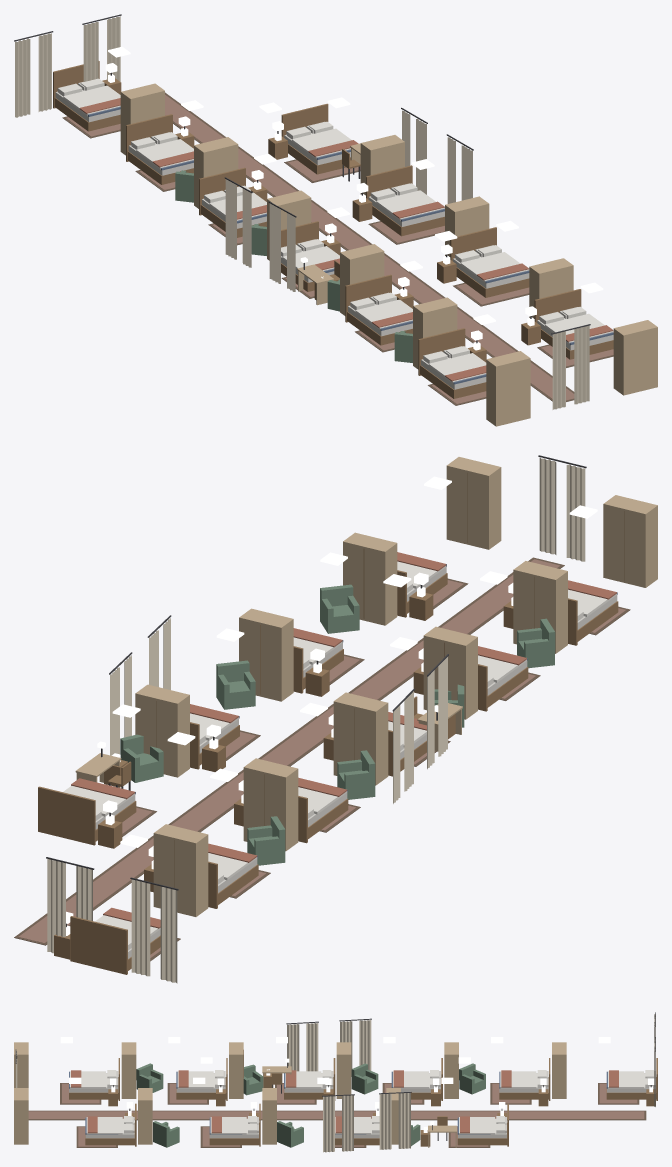
The model's file is fine-s1.glb.
The picture shows the model from 3 angles, top to bottom: view 1: azimuth 30°, elevation 25°; view 2: azimuth 150°, elevation 25°; view 3: azimuth 270°, elevation 25°; orthographic projection. The views are drawn at different scales.
Parts seen in each view (by area): view 1: soft-s1, dresser.009, dresser.003, bed-frame.001, bed-frame.002, bed-frame.009, bed-frame.008, bed-frame.005, bed-frame.000, bed-frame.004, bed-frame.003, dresser.004 (+10 smaller); view 2: soft-s1, dresser.003, dresser.009, dresser.004, dresser.001, dresser.002, dresser.005, dresser.006, dresser.008, dresser.000, dresser.007, bed-frame.000 (+15 smaller); view 3: soft-s1, dresser.008, dresser.006, dresser.001, dresser.002, dresser.003, dresser.004, dresser.007, dresser.005, bed-frame.003, bed-frame.000, bed-frame.002 (+17 smaller).
Part boxes in pixels (<box>): soft-s1: <box>14,14,613,409</box>; dresser.009: <box>486,351,530,426</box>; dresser.003: <box>613,320,657,395</box>; bed-frame.001: <box>366,165,444,236</box>; bed-frame.002: <box>450,227,529,297</box>; bed-frame.009: <box>418,328,486,398</box>; bed-frame.008: <box>345,274,412,345</box>; bed-frame.005: <box>126,114,193,184</box>; bed-frame.000: <box>281,103,350,174</box>; bed-frame.004: <box>53,61,120,131</box>; bed-frame.003: <box>534,289,613,359</box>; dresser.004: <box>120,83,164,155</box>; soft-s1: <box>14,455,630,983</box>; dresser.003: <box>446,457,501,549</box>; dresser.009: <box>603,495,657,587</box>; dresser.004: <box>153,824,208,916</box>; dresser.001: <box>239,608,293,701</box>; dresser.002: <box>343,532,397,625</box>; dresser.005: <box>243,758,298,851</box>; dresser.006: <box>333,692,388,785</box>; dresser.008: <box>513,561,567,653</box>; dresser.000: <box>135,684,189,777</box>; dresser.007: <box>423,626,477,719</box>; bed-frame.000: <box>38,786,136,845</box>; soft-s1: <box>15,1012,655,1152</box>; dresser.008: <box>121,1042,136,1098</box>; dresser.006: <box>336,1042,351,1098</box>; dresser.001: <box>262,1088,276,1144</box>; dresser.002: <box>138,1088,152,1144</box>; dresser.003: <box>14,1088,28,1144</box>; dresser.004: <box>552,1042,566,1098</box>; dresser.007: <box>229,1042,243,1098</box>; dresser.005: <box>444,1042,458,1098</box>; bed-frame.003: <box>85,1103,136,1146</box>; bed-frame.000: <box>457,1103,508,1146</box>; bed-frame.002: <box>209,1103,260,1146</box>.
Size of the model in its own units: 8.12 by 2.61 by 26.4.
